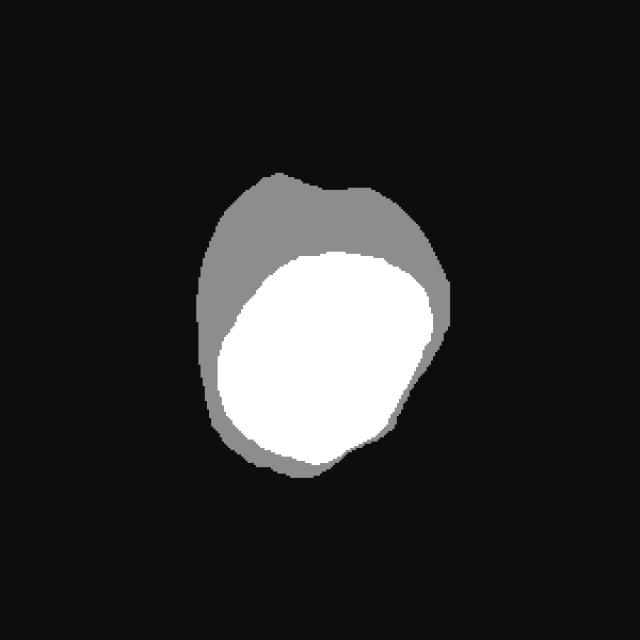WBC: (183, 156, 463, 493)
